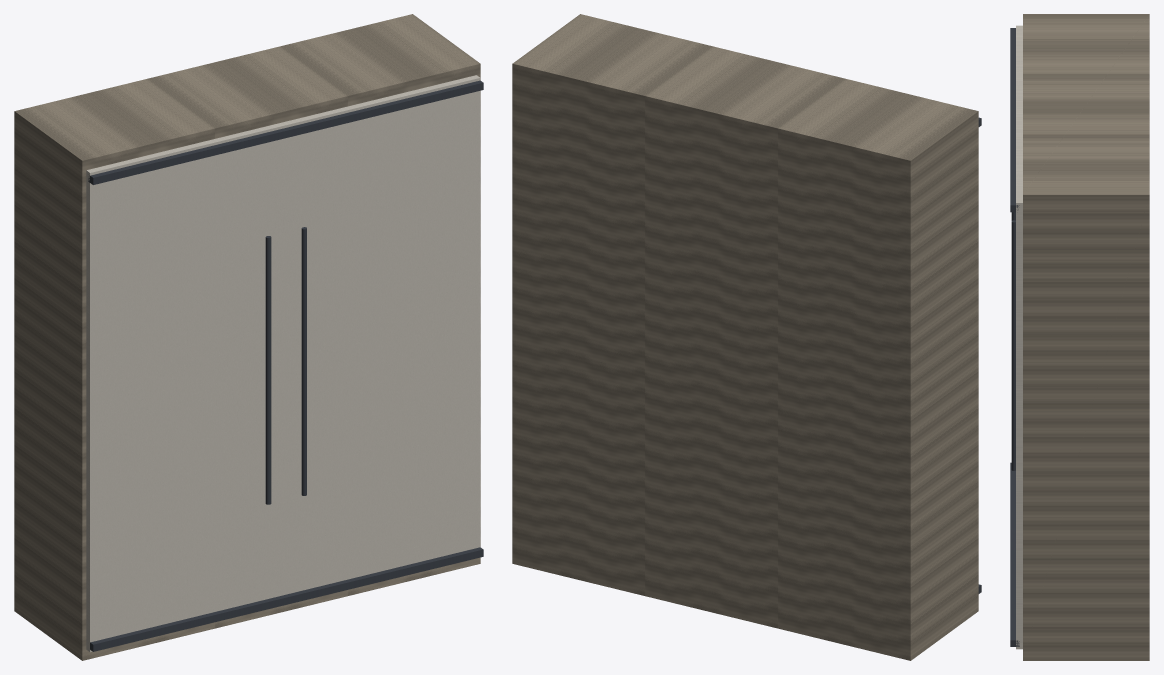
Rendered from wardrobe-sliding-2000.glb.
3 renders of one model, left to right at view 1: azimuth 30°, elevation 25°; view 2: azimuth 150°, elevation 25°; view 3: azimuth 270°, elevation 25°, orthographic. The views are drawn at different scales.
Visible parts, largest first — view 1: door_1, door_2, body, top_track, bottom_track, handle_1, handle_2; view 2: body; view 3: body, door_2, handle_2, top_track, bottom_track, door_1.
Boxes of the visible parts, bbox=[...] form: door_1: bbox=[86, 122, 285, 652]; door_2: bbox=[282, 75, 480, 594]; body: bbox=[14, 14, 480, 660]; top_track: bbox=[88, 80, 483, 184]; bottom_track: bbox=[90, 547, 483, 651]; handle_1: bbox=[265, 236, 271, 504]; handle_2: bbox=[301, 227, 306, 495]; body: bbox=[512, 14, 978, 660]; body: bbox=[1023, 14, 1149, 660]; door_2: bbox=[1016, 114, 1022, 649]; handle_2: bbox=[1011, 220, 1015, 470]; top_track: bbox=[1010, 28, 1019, 212]; bottom_track: bbox=[1010, 462, 1019, 646]; door_1: bbox=[1016, 25, 1022, 114].
Bounding box in the file's own units: 2 × 2.4 × 0.65.
Materials: 3 (3 with a texture image).
